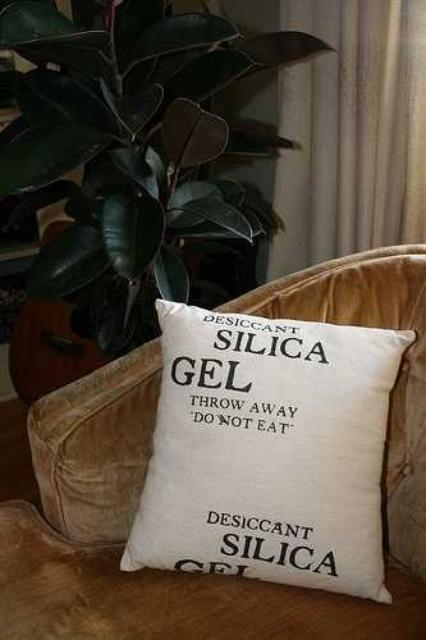pillow: (118, 298, 418, 604)
